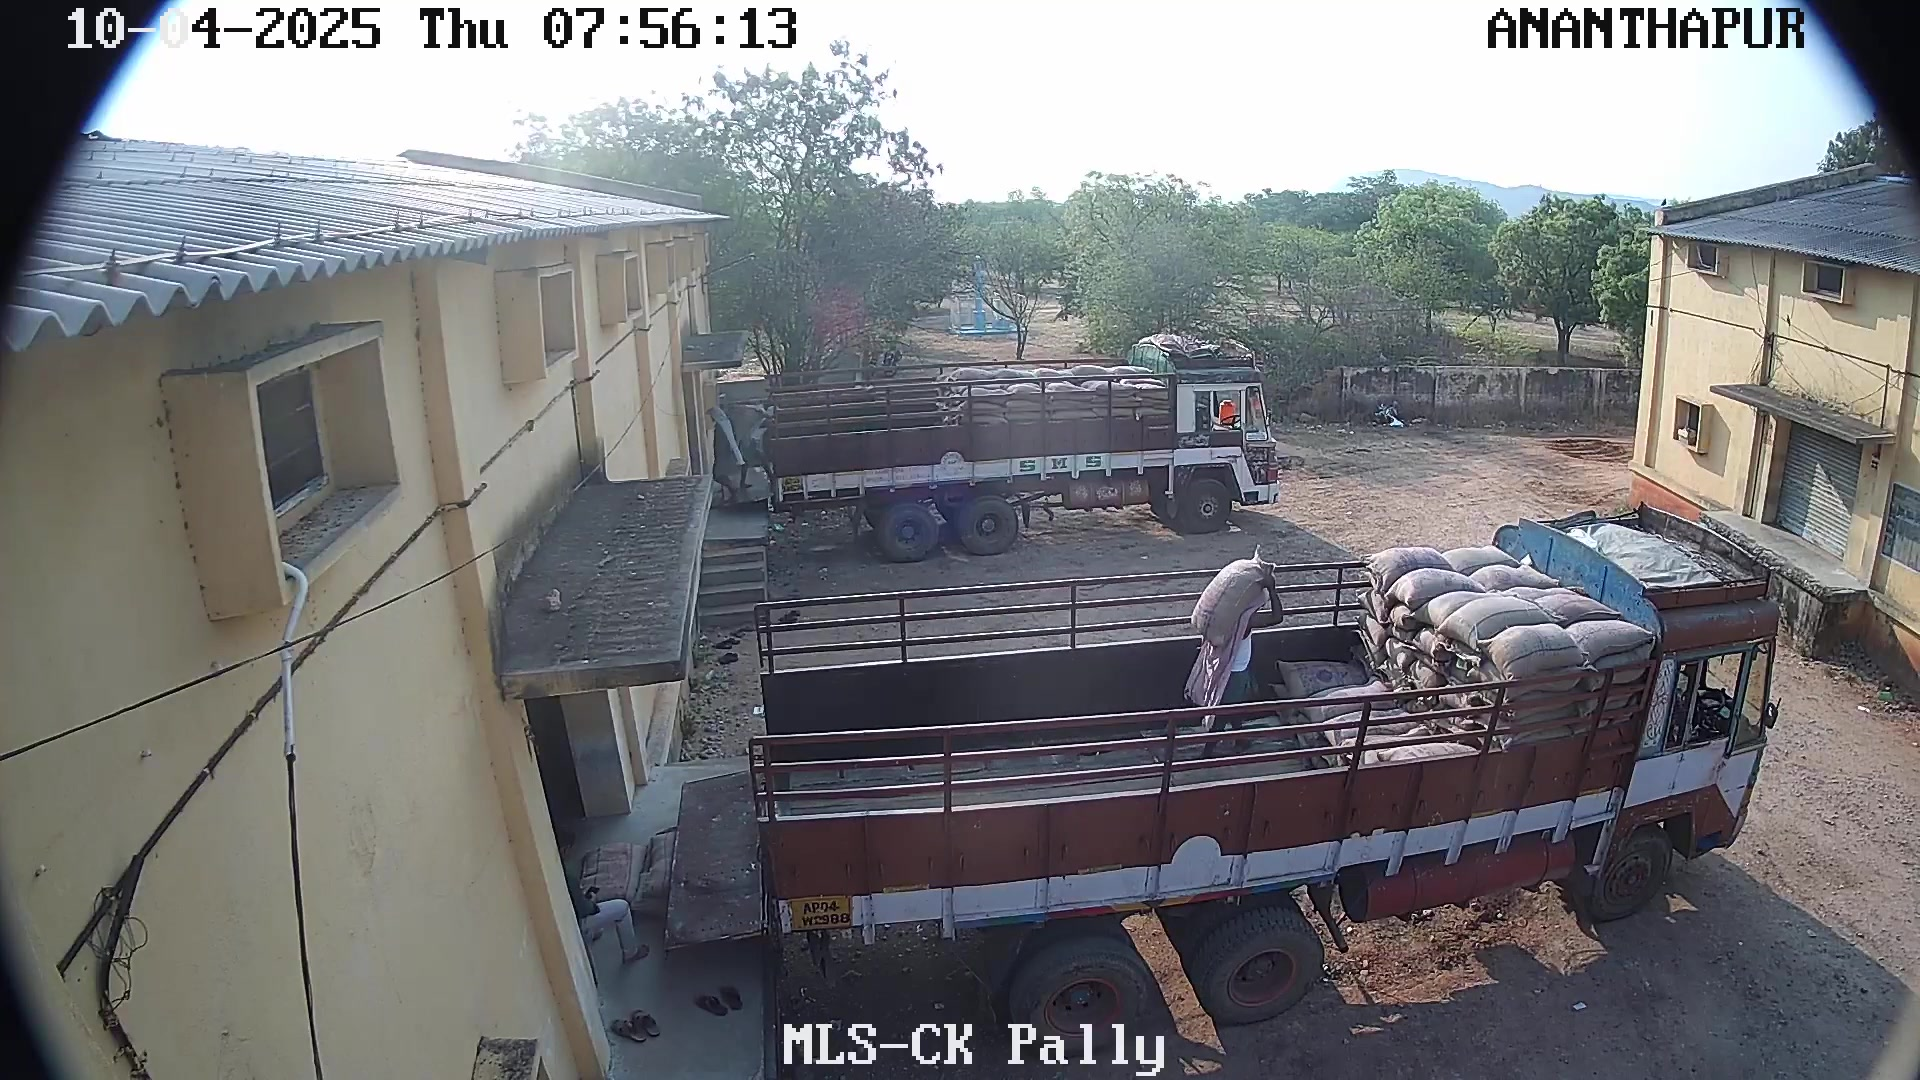gunny_bag_counting: (1189, 549, 1275, 649)
gunny_bag_ignore: (725, 334, 1358, 530), (1284, 545, 1680, 849)
